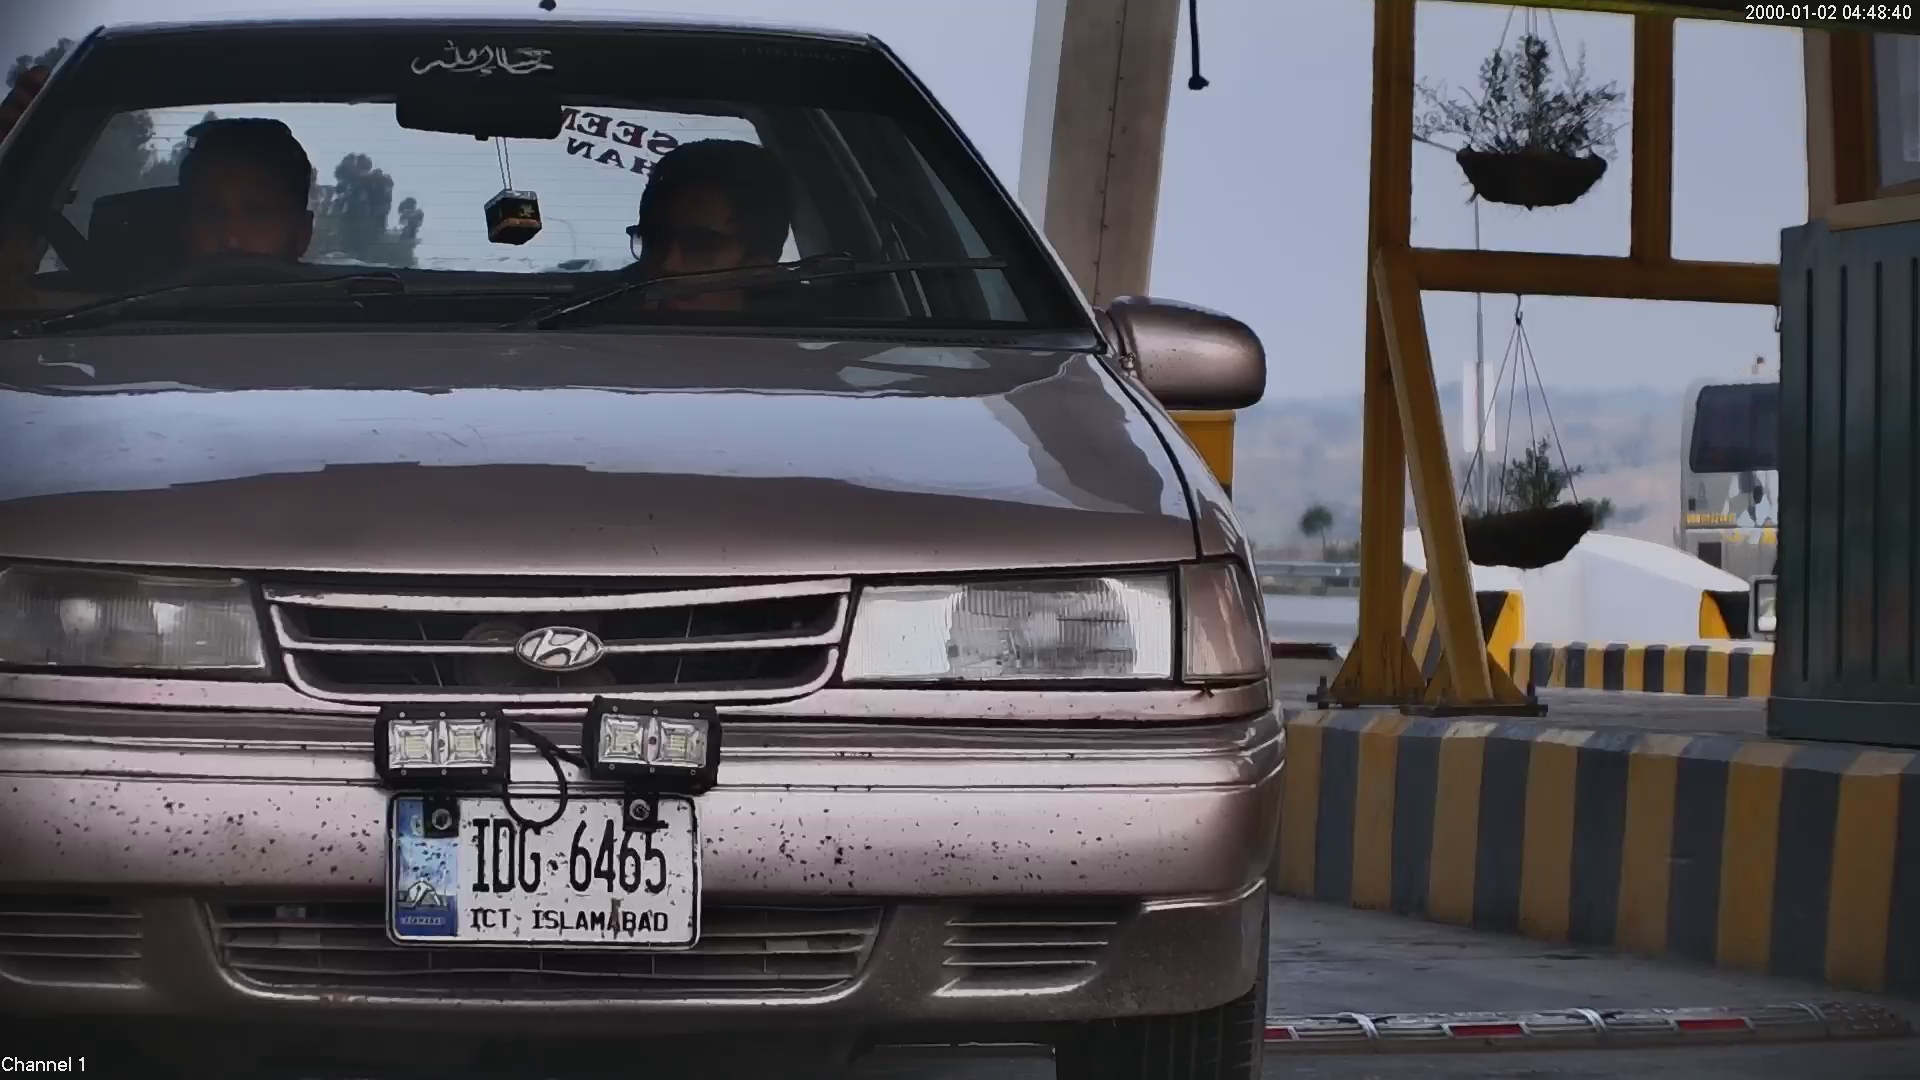Number_Plate: (373, 774, 710, 964)
